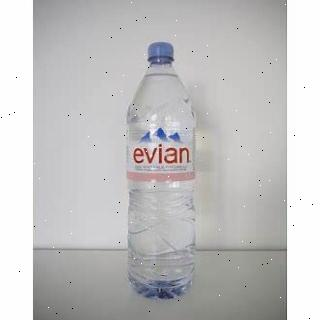Plastic-bottle: (122, 36, 208, 302)
